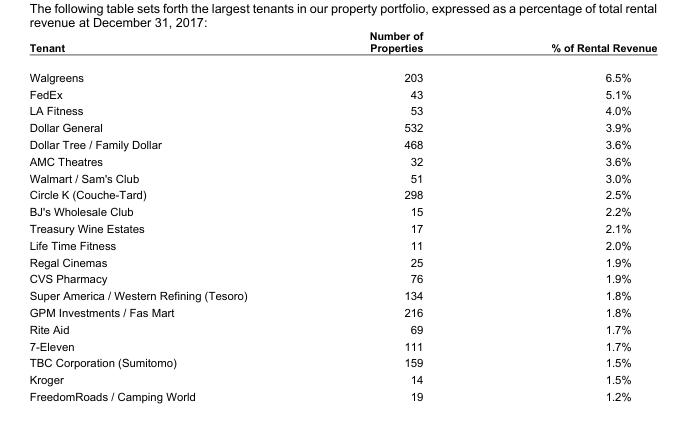table: (28, 29, 656, 402)
table column: (28, 29, 307, 402), (307, 29, 486, 402), (486, 29, 656, 402)
table column header: (28, 29, 656, 62)
table row: (28, 29, 656, 62), (28, 62, 656, 85), (28, 85, 656, 102), (28, 118, 656, 135), (28, 135, 656, 152), (28, 152, 656, 169), (28, 169, 656, 186), (28, 202, 656, 219), (28, 219, 656, 236), (28, 236, 656, 253), (28, 253, 656, 270), (28, 286, 656, 303), (28, 303, 656, 320), (28, 320, 656, 337), (28, 337, 656, 354), (28, 370, 656, 387), (28, 102, 656, 118), (28, 186, 656, 202), (28, 270, 656, 286), (28, 354, 656, 370), (28, 387, 656, 402)
